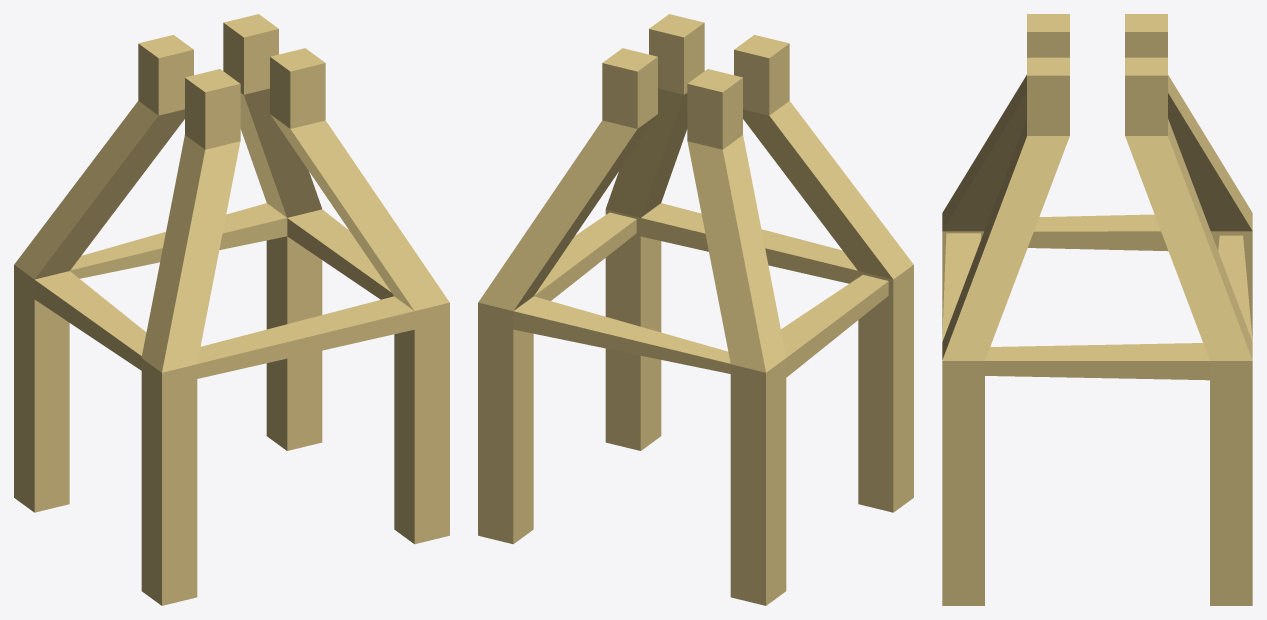
Rendered from NOGA.fbx.
3 renders of one model, left to right at view 1: azimuth 30°, elevation 25°; view 2: azimuth 150°, elevation 25°; view 3: azimuth 270°, elevation 25°, orthographic. The views are drawn at different scales.
Parts seen in each view (by area): view 1: Cube.059; view 2: Cube.059; view 3: Cube.059.
Boxes of the visible parts, x1,y1,x2,y2 form: Cube.059: [14, 14, 449, 605]; Cube.059: [478, 14, 913, 605]; Cube.059: [942, 14, 1252, 605].
Bounding box in the file's own units: 1408 × 2166 × 1251.
